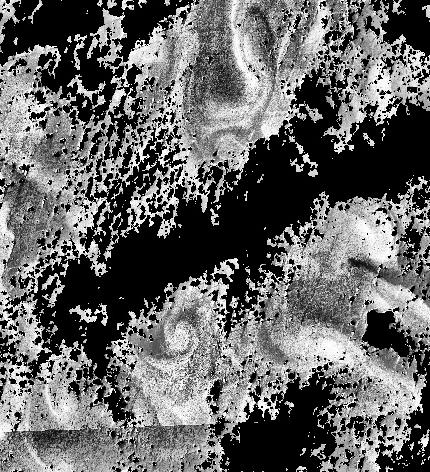CE: (162, 316, 201, 360)
